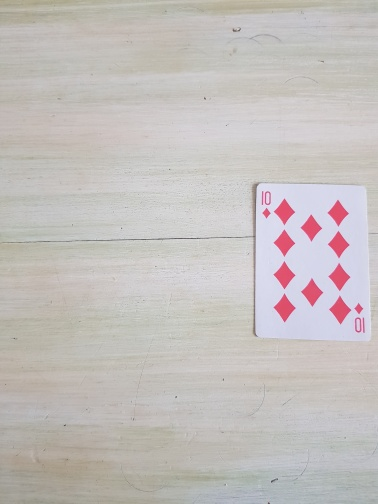ten: (254, 181, 373, 343)
